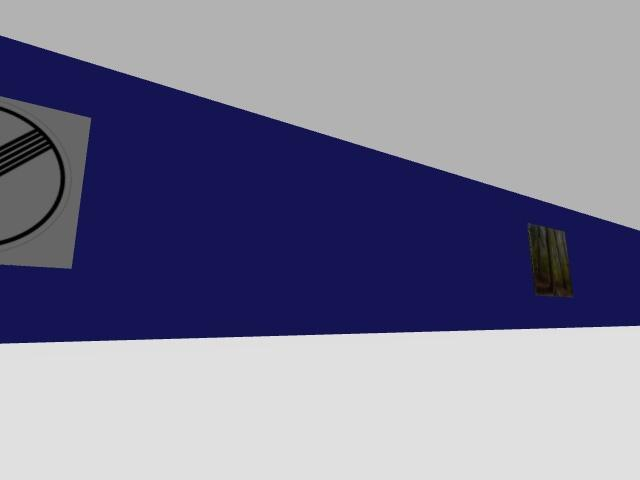fastsign: (0, 96, 90, 268)
